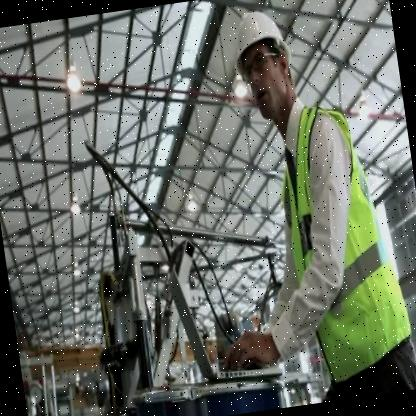capacete: (228, 5, 300, 124)
colete_refletivo: (256, 91, 415, 382)
